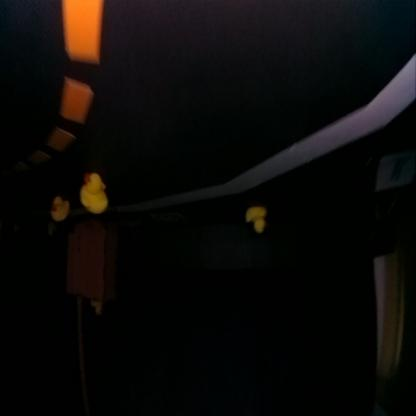Duckie: (79, 173, 108, 215), (244, 206, 268, 230), (50, 200, 66, 222), (89, 301, 101, 316), (46, 224, 55, 236)
QR code: (150, 213, 187, 223)
